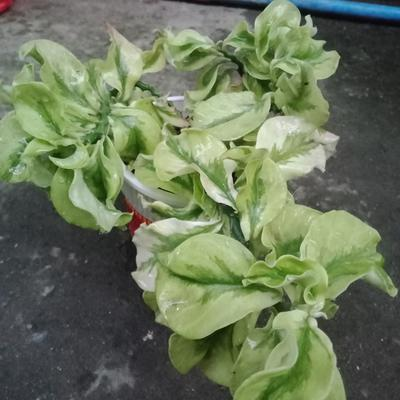Pothos plant: (42, 44, 347, 320)
